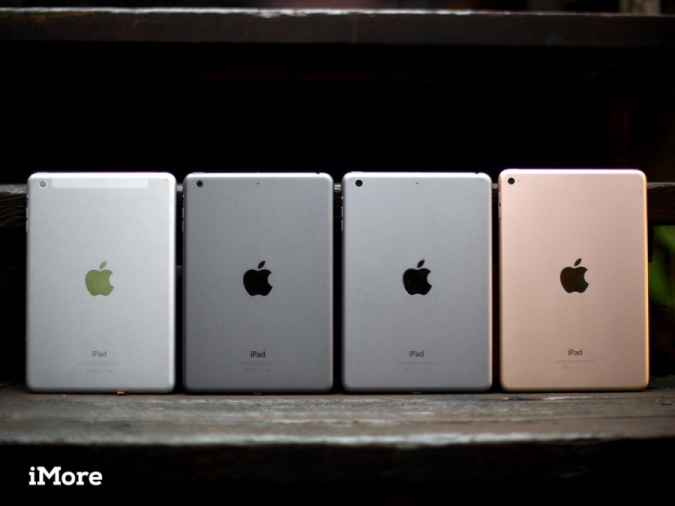apple: (391, 254, 452, 307), (549, 254, 600, 307), (236, 255, 280, 307), (80, 257, 118, 303)
